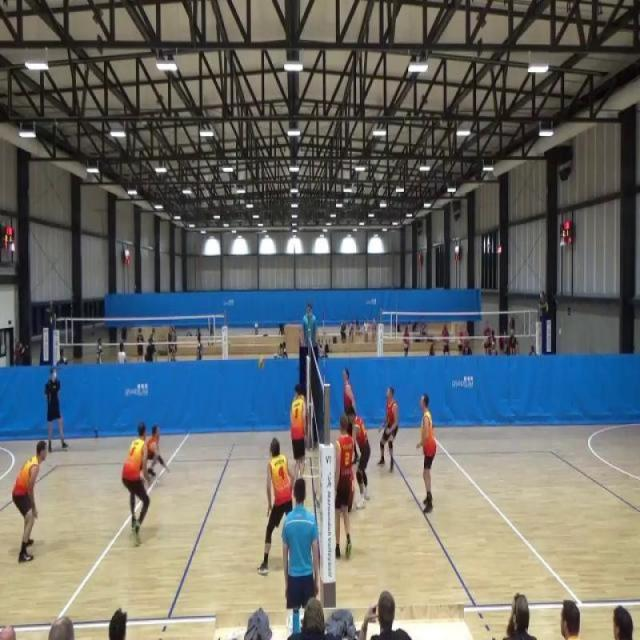volleyball: (258, 356, 265, 369)
